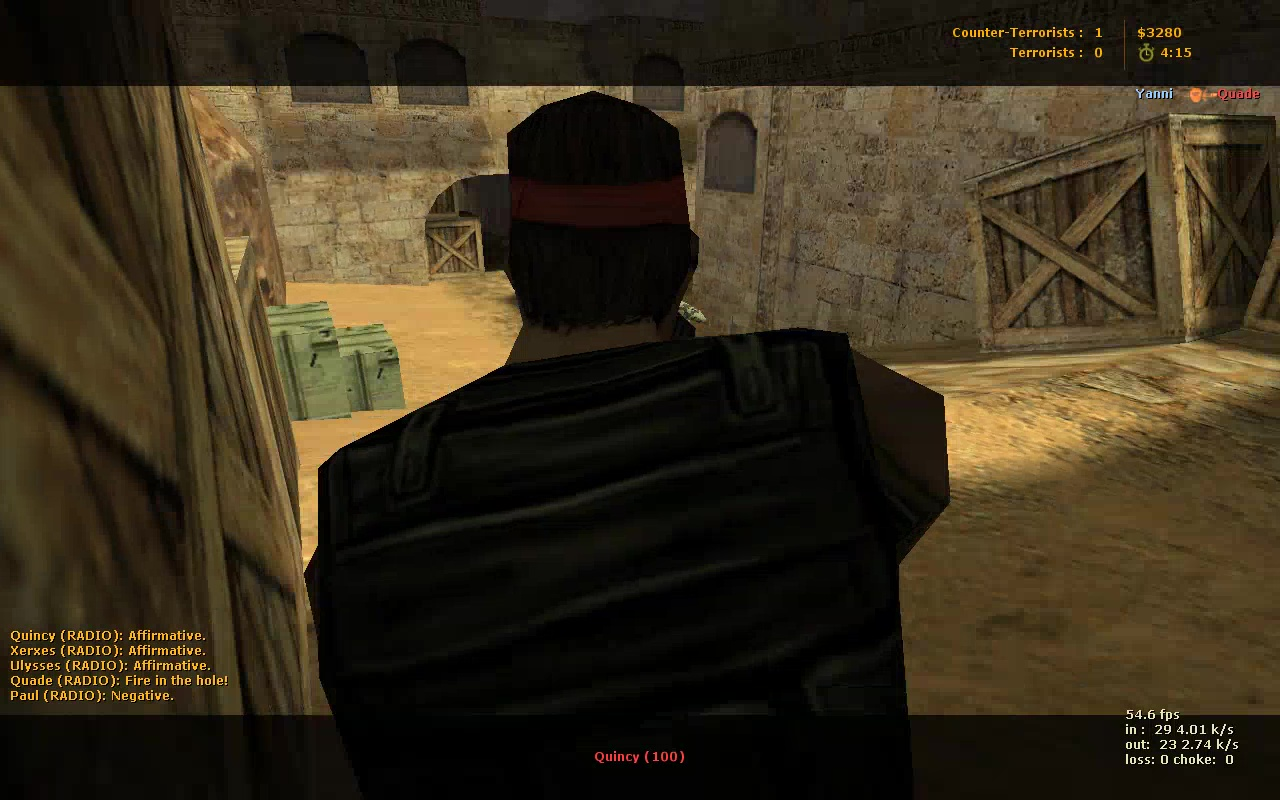terr1: (311, 89, 955, 729)
